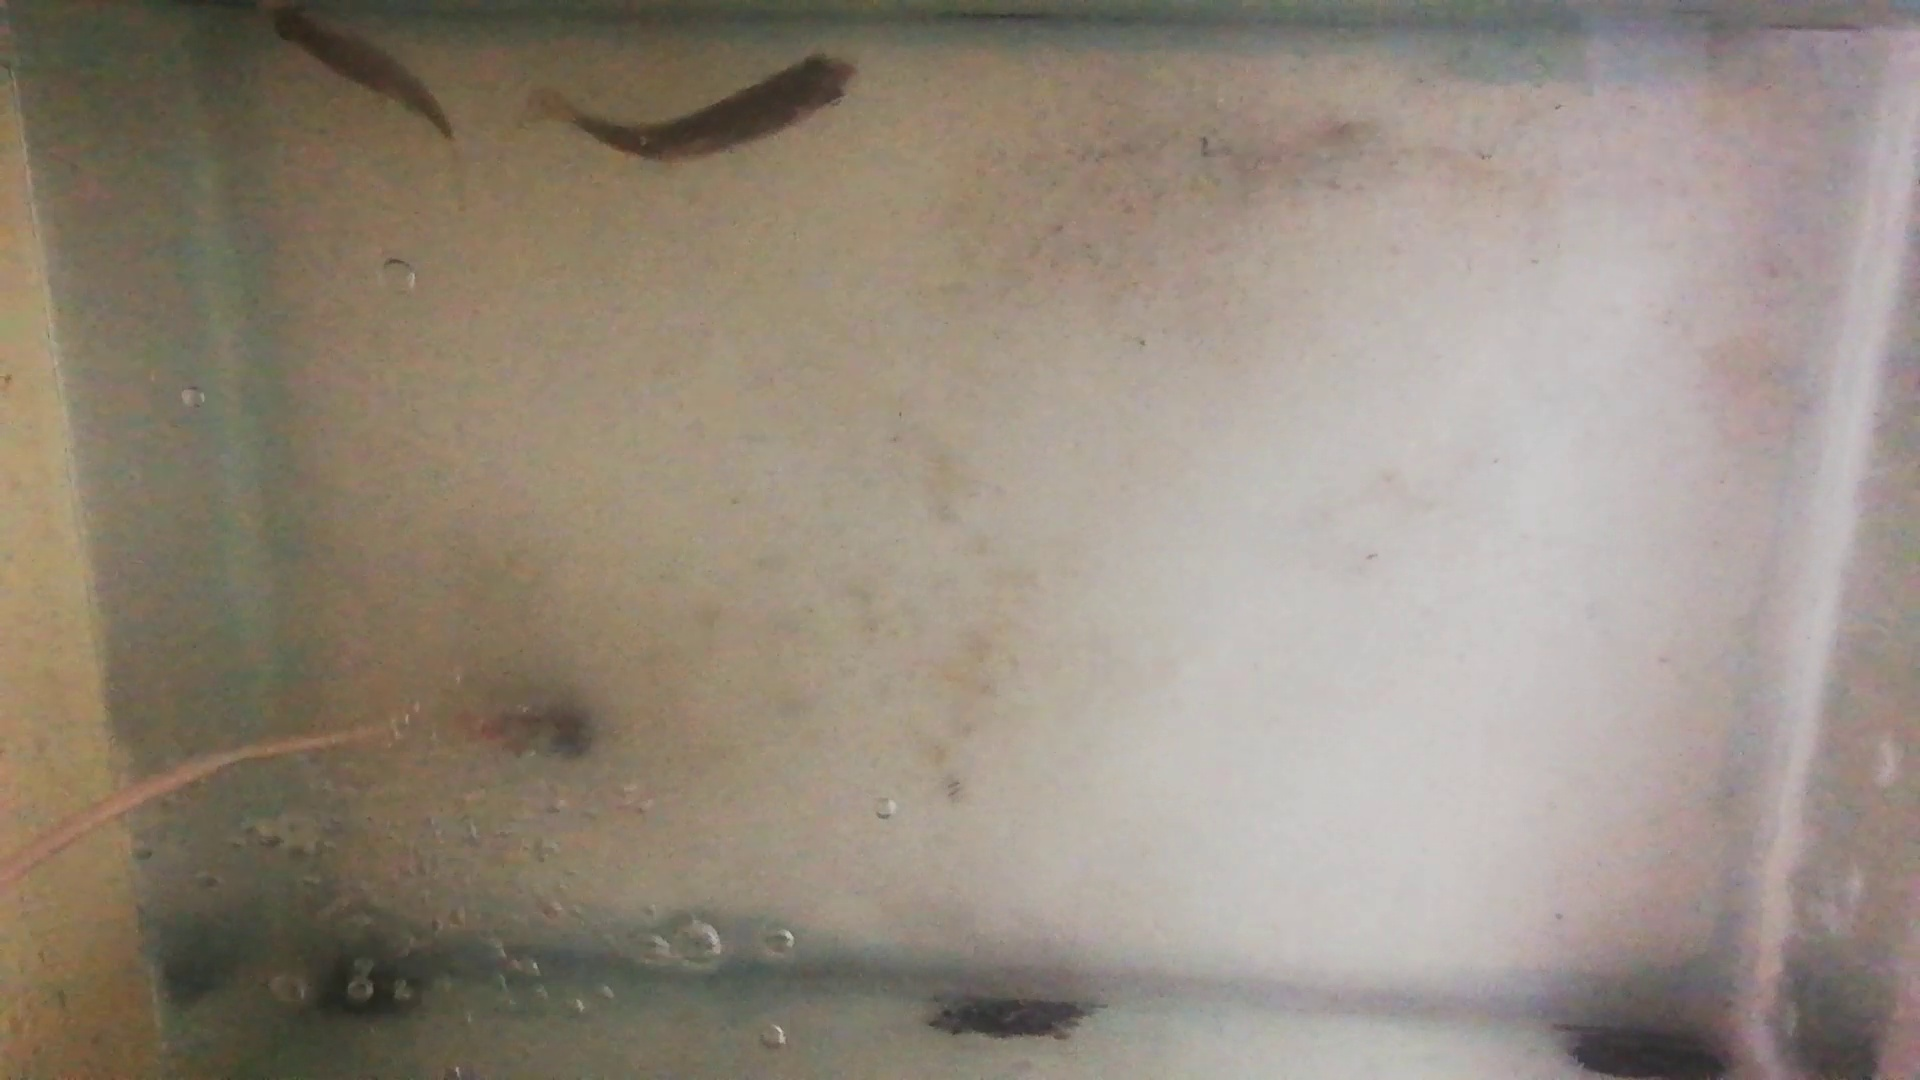fish: (574, 53, 862, 165), (269, 1, 456, 141)
